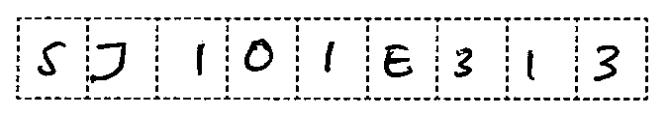0: (237, 32, 284, 76)
1: (513, 43, 547, 85), (311, 38, 345, 77), (184, 36, 212, 81)
3: (584, 40, 624, 88), (448, 41, 478, 85)
E: (379, 37, 421, 83)
J: (89, 37, 132, 85)
S: (33, 38, 67, 79)
